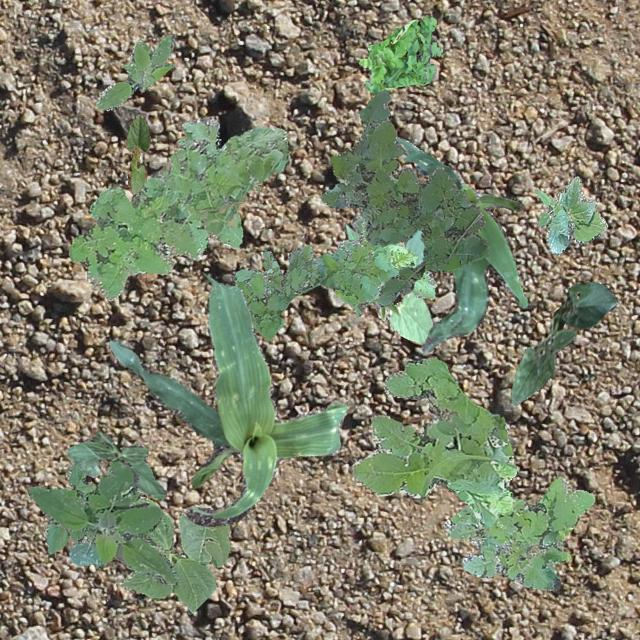crop: (108, 276, 348, 526), (396, 136, 526, 352), (82, 494, 230, 614), (508, 280, 616, 404), (44, 440, 140, 568), (342, 222, 432, 342), (64, 430, 166, 498), (532, 176, 606, 253), (124, 112, 150, 194), (350, 214, 362, 238)
weed: (68, 118, 288, 300), (320, 88, 488, 306), (347, 356, 516, 526), (232, 218, 434, 338), (26, 456, 178, 584), (442, 476, 594, 590), (358, 15, 440, 94), (94, 34, 174, 110)
